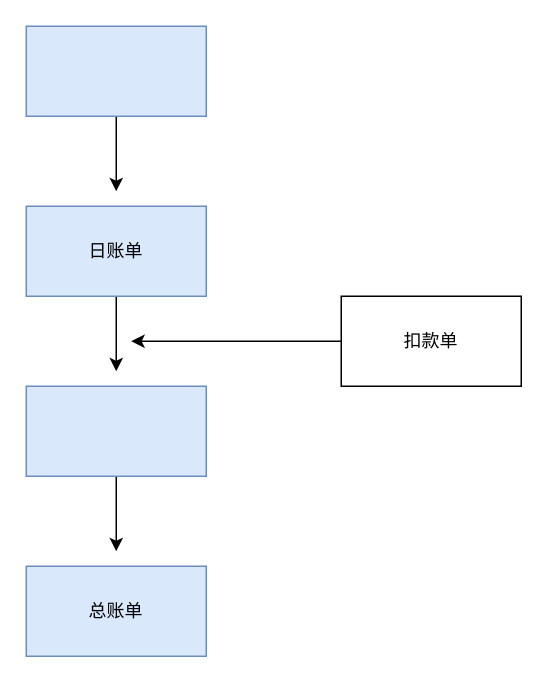
The diagram is 548 pixels wide and 683 high, and some of its shapes have lost their labels. The shapes that lost their labels are listed below. From the top down, each one's box as (x1, y1, x2, y2) in pixels, then its label:
(25, 25, 206, 116): 已入库
(25, 385, 206, 476): 对账单
